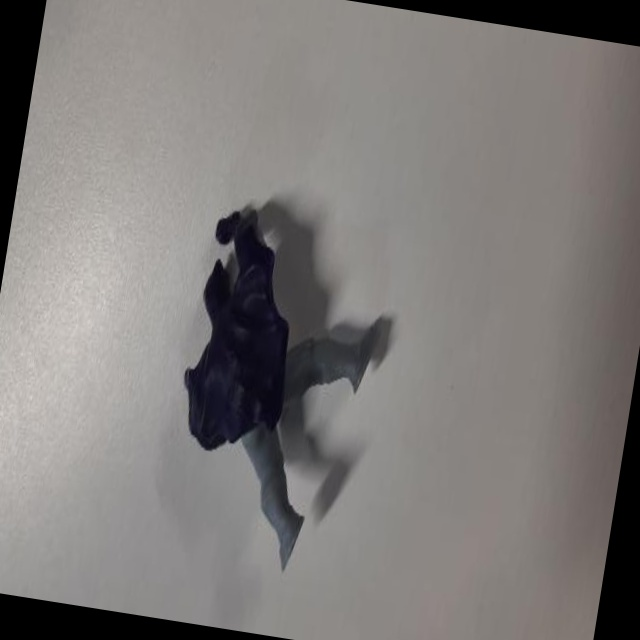Batman: (152, 196, 415, 584)
